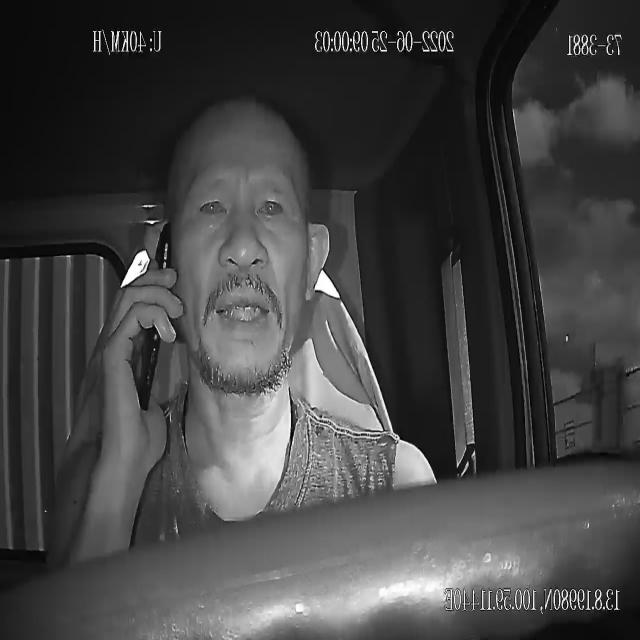phone: (136, 215, 170, 410)
